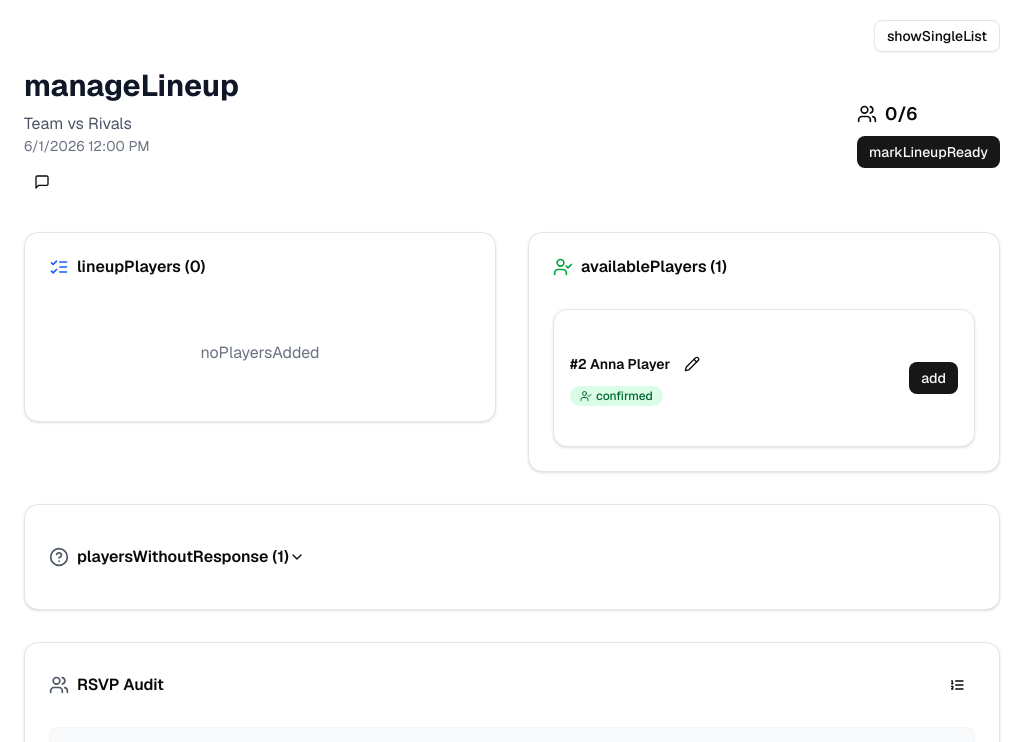
captain RSVP controls › preserves both player editor drafts while audit entries load in single-list mode: false
The image size is (1024, 742).
Click the button "playersWithoutResponse (1)" at (177, 557), box [25,529,329,585]
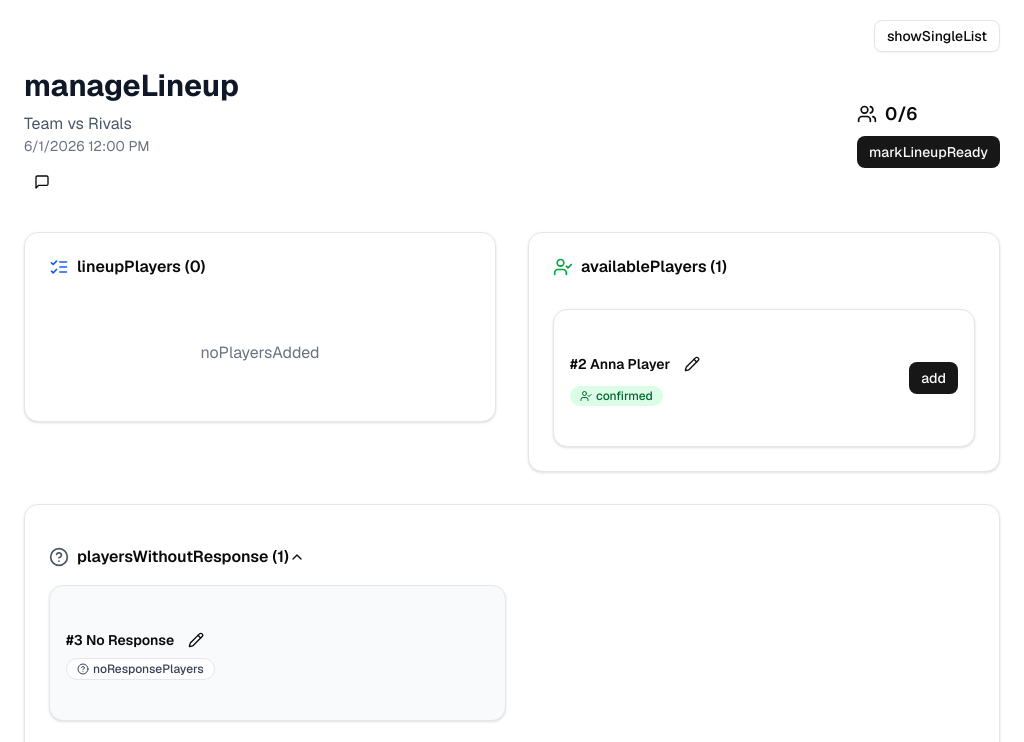
Click the 1st button named "editRsvp" at (692, 364), box [678,350,706,378]
(page scrolled)
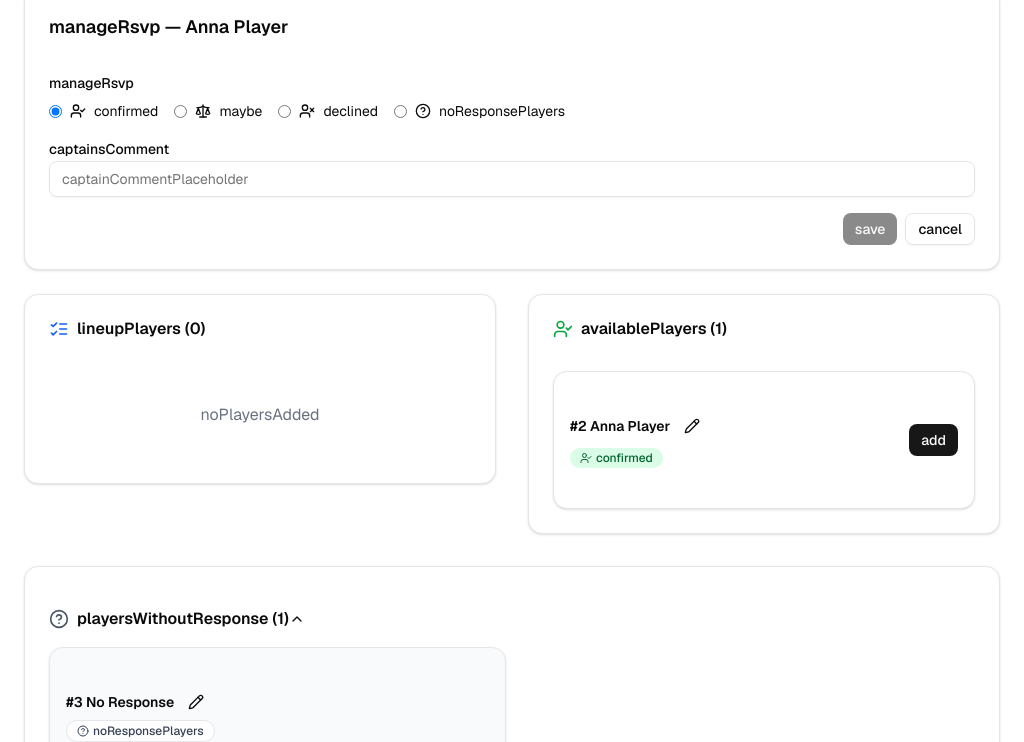
Click the radio button labelled "maybe" at (181, 111), box [174,104,187,118]
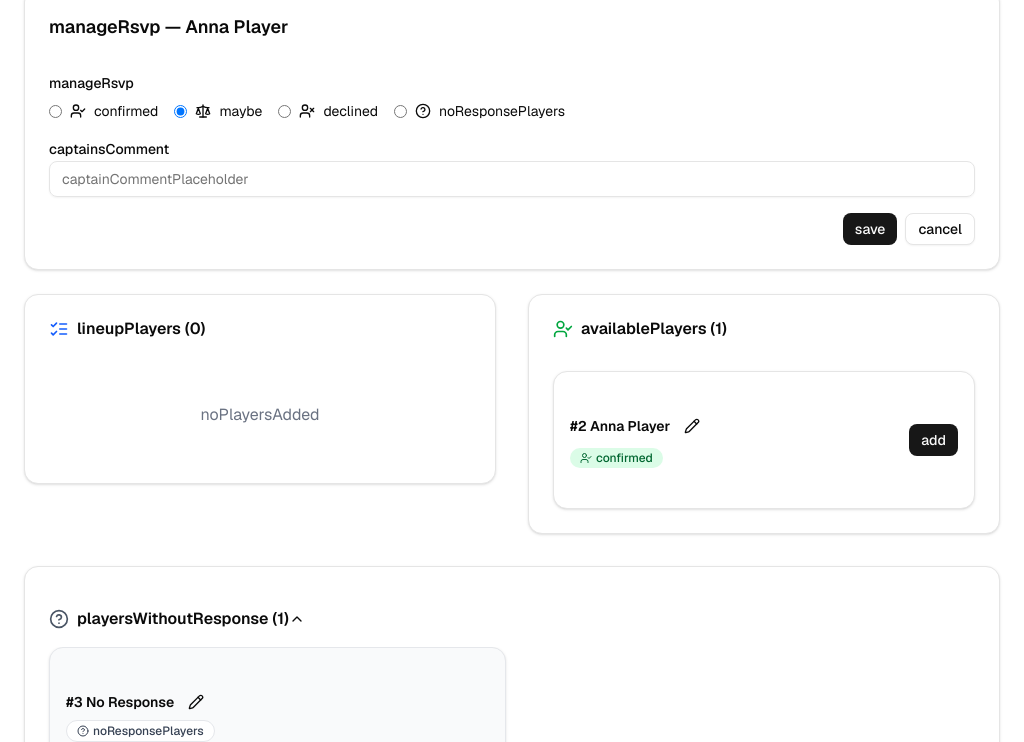
Type "Draft" into the field labelled "captainsComment" at (512, 179), box [49,161,975,197]
(page scrolled)
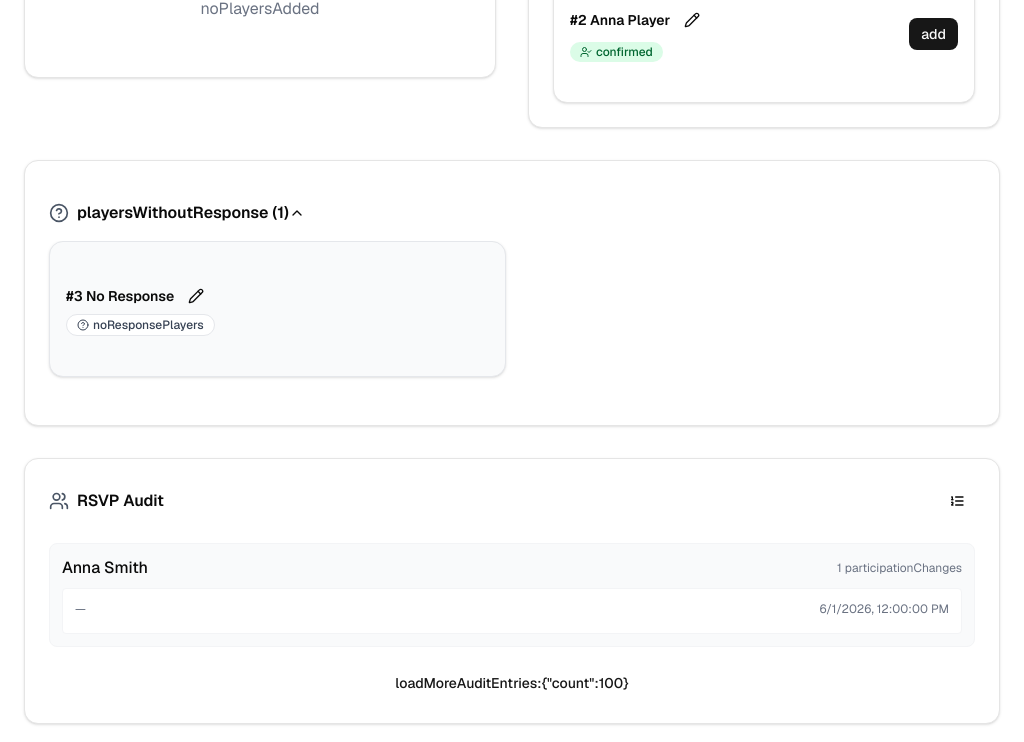
Click the button "loadMoreAuditEntries:{\"count\":100}" at (512, 683), box [383,667,641,699]
(page scrolled)
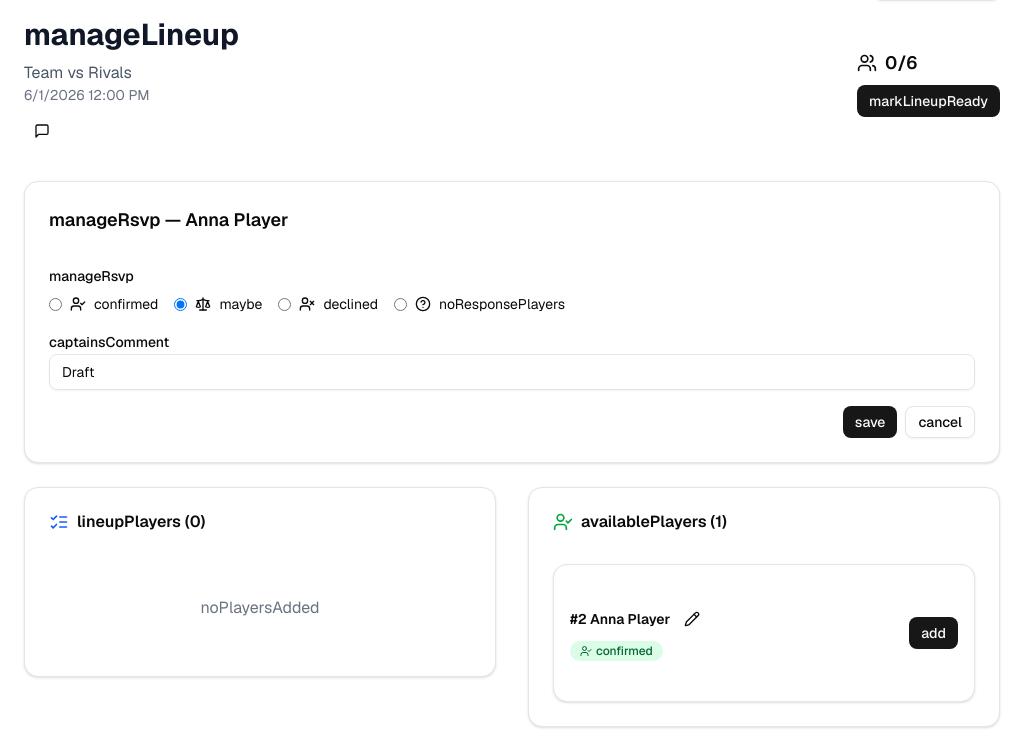
Expected: the radio button labelled "maybe" is checked, [174,298,187,310]
Expected: the button "loadMoreAuditEntries" is gone
